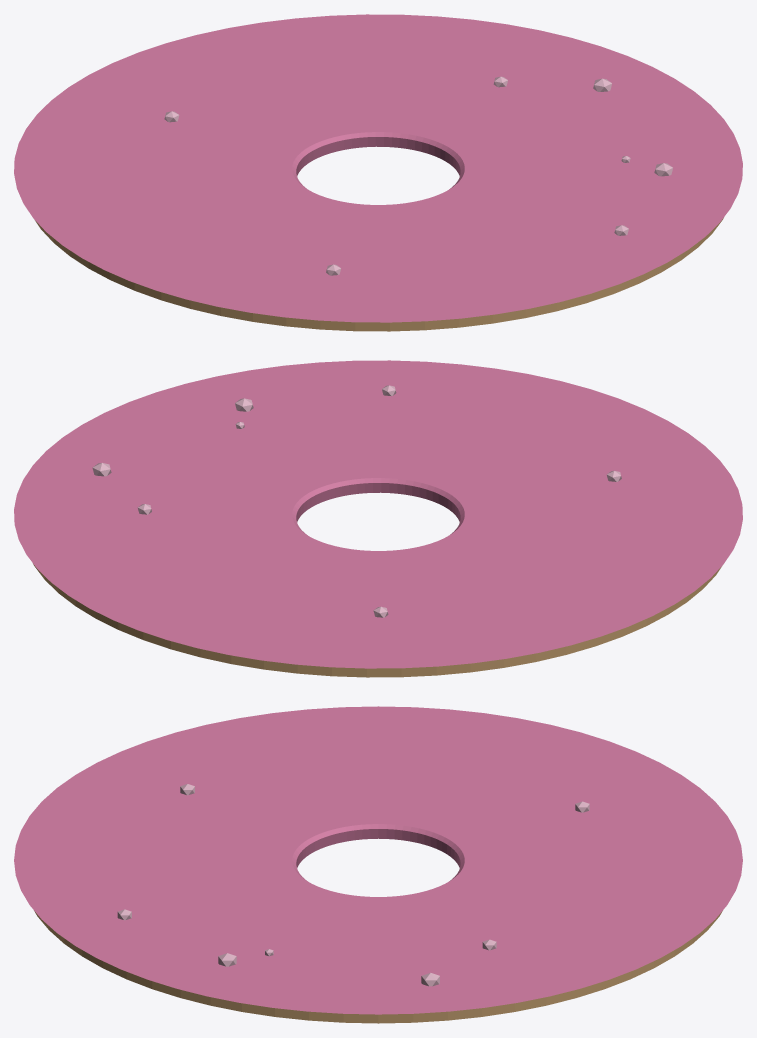
The model's file is goo_jar_deck_2@candy.fbx.
3 views of the same model, one above another, from view 1: azimuth 30°, elevation 25°; view 2: azimuth 150°, elevation 25°; view 3: azimuth 270°, elevation 25° (orthographic).
Visible parts, largest first — view 1: goo_jar_deck_2; view 2: goo_jar_deck_2; view 3: goo_jar_deck_2.
Boxes of the visible parts, box(x1,y1,x2,y2) form: goo_jar_deck_2: box(14, 14, 742, 331); goo_jar_deck_2: box(14, 360, 742, 677); goo_jar_deck_2: box(14, 706, 742, 1023).
Size of the model in its own units: 53.2 by 1.84 by 53.2.
